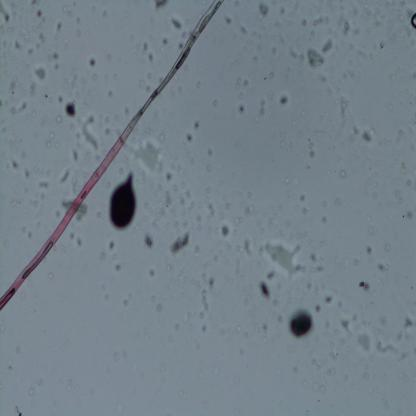Air bubble: (410, 12, 416, 28)
Background material: (105, 168, 140, 231), (263, 241, 308, 276), (134, 140, 164, 172), (288, 306, 314, 338), (80, 113, 98, 150), (346, 124, 376, 145), (166, 231, 190, 253), (374, 339, 399, 357), (306, 48, 324, 69), (335, 94, 349, 117), (311, 252, 325, 273), (312, 373, 326, 392), (200, 288, 210, 313), (241, 238, 253, 258), (64, 102, 78, 119), (71, 232, 84, 250), (258, 280, 270, 299), (177, 31, 189, 50), (169, 15, 183, 31), (278, 127, 288, 149), (160, 188, 172, 206), (276, 92, 290, 107), (77, 204, 91, 219), (244, 284, 254, 305), (338, 318, 351, 334), (34, 30, 44, 50), (48, 52, 59, 70), (395, 369, 409, 383), (359, 334, 371, 350), (34, 8, 46, 24), (338, 19, 350, 35), (179, 190, 191, 206), (373, 12, 385, 28), (290, 49, 304, 62), (342, 68, 355, 82), (7, 79, 17, 97), (404, 315, 416, 330), (35, 65, 46, 81), (307, 138, 316, 157), (362, 2, 372, 19), (36, 177, 50, 189), (112, 349, 127, 360), (258, 2, 269, 17), (231, 256, 240, 274), (155, 0, 171, 10), (358, 279, 370, 292), (338, 302, 350, 315), (350, 23, 362, 36), (239, 23, 250, 37), (322, 39, 333, 53), (396, 127, 405, 144), (0, 6, 9, 23), (145, 233, 155, 248), (192, 242, 200, 260), (312, 359, 324, 371), (313, 16, 327, 26), (378, 262, 390, 273), (181, 310, 193, 321), (244, 204, 256, 215), (329, 348, 340, 360), (191, 80, 202, 92), (53, 20, 64, 32), (61, 200, 73, 211), (398, 352, 411, 362), (60, 168, 69, 182), (115, 402, 124, 416), (122, 293, 131, 307), (185, 130, 194, 144), (236, 103, 246, 115), (200, 265, 208, 280), (380, 316, 389, 329), (207, 205, 216, 218), (22, 167, 30, 181), (159, 36, 170, 46), (234, 215, 244, 226), (224, 14, 233, 26), (260, 97, 266, 115), (10, 104, 18, 117), (28, 83, 36, 96), (193, 119, 201, 132), (136, 79, 146, 89), (165, 263, 175, 273), (250, 112, 260, 122), (63, 6, 72, 17), (269, 46, 278, 57), (27, 385, 36, 396), (206, 277, 215, 288), (71, 74, 78, 88), (396, 190, 403, 204), (256, 244, 264, 256), (320, 197, 328, 209), (206, 147, 214, 159), (54, 113, 62, 125), (87, 56, 95, 68), (406, 210, 414, 222), (16, 36, 23, 49), (327, 366, 336, 376), (281, 175, 291, 184), (164, 170, 173, 180), (18, 102, 26, 113), (352, 257, 360, 268), (106, 87, 114, 98), (221, 225, 228, 237), (105, 52, 112, 64), (397, 328, 403, 342), (352, 6, 359, 18), (14, 406, 22, 416), (35, 376, 43, 386), (338, 169, 346, 179), (292, 364, 299, 375), (168, 332, 175, 343), (325, 295, 332, 306), (67, 379, 73, 391), (306, 280, 312, 292), (72, 150, 78, 162), (236, 76, 242, 88), (405, 8, 413, 17), (301, 206, 308, 216), (365, 244, 372, 254), (279, 5, 286, 15), (148, 267, 155, 277), (26, 47, 36, 54), (27, 230, 34, 240), (267, 91, 274, 101), (158, 134, 165, 144), (148, 52, 154, 63), (302, 230, 310, 238), (92, 74, 100, 82), (260, 324, 268, 332), (6, 364, 14, 372), (156, 304, 164, 312), (74, 29, 82, 37), (44, 140, 52, 148), (368, 227, 376, 235), (212, 368, 220, 376), (114, 264, 122, 272), (267, 72, 275, 80), (335, 197, 342, 206), (176, 85, 183, 94), (201, 325, 208, 334), (384, 243, 391, 252), (198, 312, 205, 321), (103, 127, 110, 136), (213, 254, 220, 263), (405, 179, 412, 188), (142, 41, 147, 53), (74, 15, 80, 25), (372, 191, 378, 201), (236, 324, 242, 334), (174, 320, 180, 330), (101, 10, 108, 18), (268, 271, 275, 279), (48, 272, 55, 280), (48, 132, 55, 140), (145, 72, 152, 80), (390, 73, 397, 81), (272, 298, 279, 306), (320, 74, 327, 82), (12, 160, 18, 169), (212, 98, 218, 107), (124, 106, 130, 115), (316, 303, 322, 312), (300, 193, 306, 202), (109, 241, 115, 250), (320, 216, 327, 223), (56, 96, 63, 103), (303, 379, 309, 387), (244, 80, 250, 88), (80, 76, 86, 84), (54, 140, 60, 148), (276, 317, 284, 323), (56, 209, 61, 218), (401, 162, 406, 171), (379, 42, 384, 51), (254, 55, 260, 62), (31, 0, 38, 6), (239, 94, 245, 101), (300, 111, 306, 118), (239, 348, 244, 356), (158, 76, 163, 84), (411, 71, 416, 79), (270, 216, 274, 225), (301, 20, 307, 26), (104, 118, 109, 125), (123, 12, 128, 19), (113, 72, 117, 80), (326, 320, 330, 328), (388, 103, 392, 111), (146, 85, 150, 92), (293, 121, 297, 128), (207, 165, 211, 172)
Cotton: (0, 0, 223, 312)
